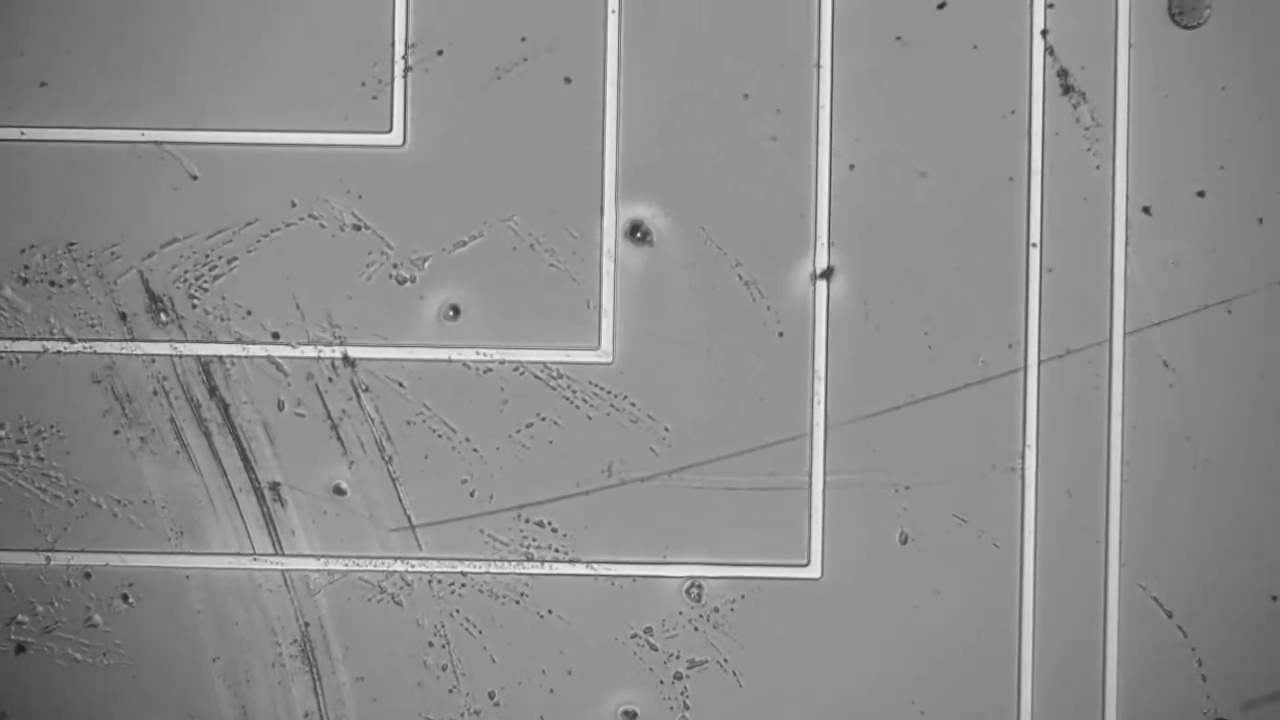scratch: (394, 289, 1231, 539), (117, 292, 330, 719), (327, 342, 419, 569), (1123, 601, 1224, 698)
stains_enbedded: (794, 253, 851, 303)
